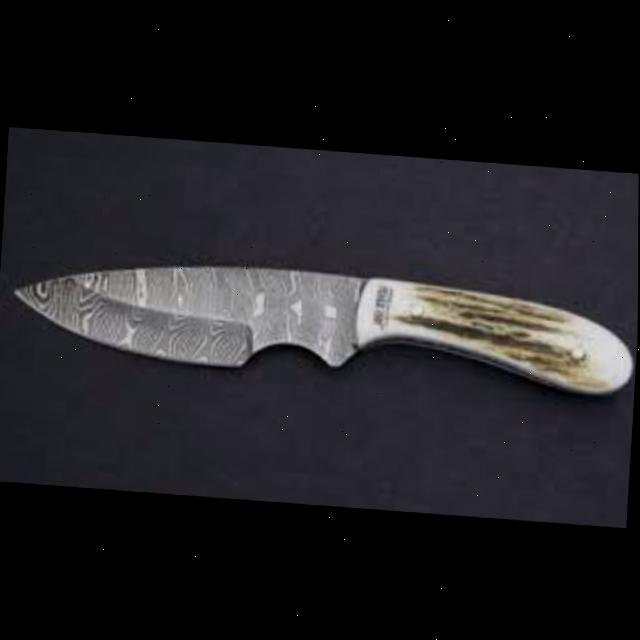Knife: (12, 245, 639, 395)
